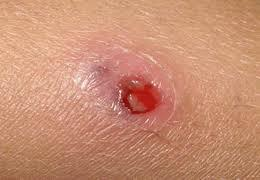Spider: (108, 60, 186, 141)
